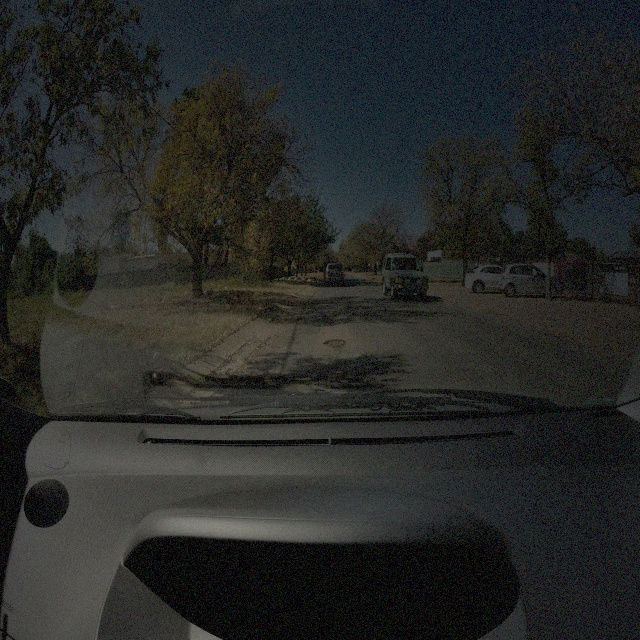pothole: (324, 337, 346, 349)
